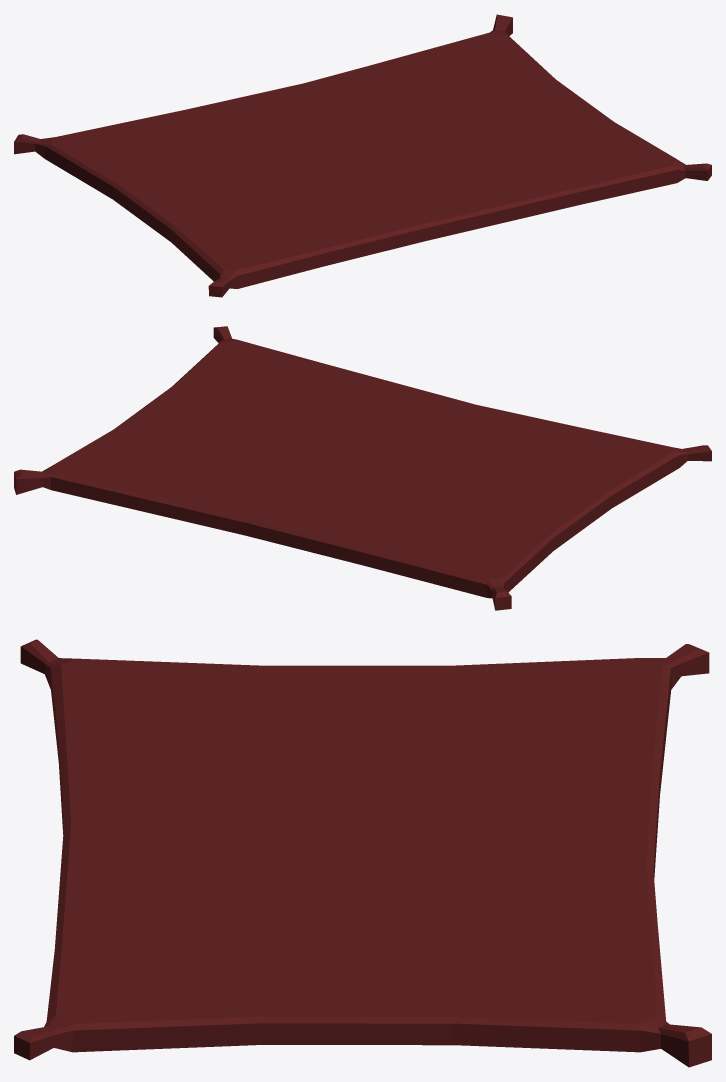
Rendered from Carpet.fbx.
The picture shows the model from 3 angles, top to bottom: view 1: azimuth 30°, elevation 25°; view 2: azimuth 150°, elevation 25°; view 3: azimuth 270°, elevation 25°; orthographic projection. The views are drawn at different scales.
Visible parts, largest first — view 1: Carpet; view 2: Carpet; view 3: Carpet.
Boxes of the visible parts, x1=… form: Carpet: x1=14, y1=14, x2=711, y2=297; Carpet: x1=14, y1=326, x2=711, y2=610; Carpet: x1=14, y1=639, x2=711, y2=1067.
Size of the model in its own units: 461 by 18.01 by 337.
